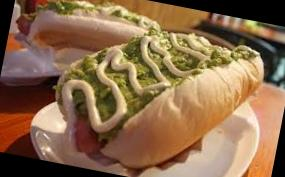Completos: (24, 10, 272, 176), (9, 0, 165, 75)
